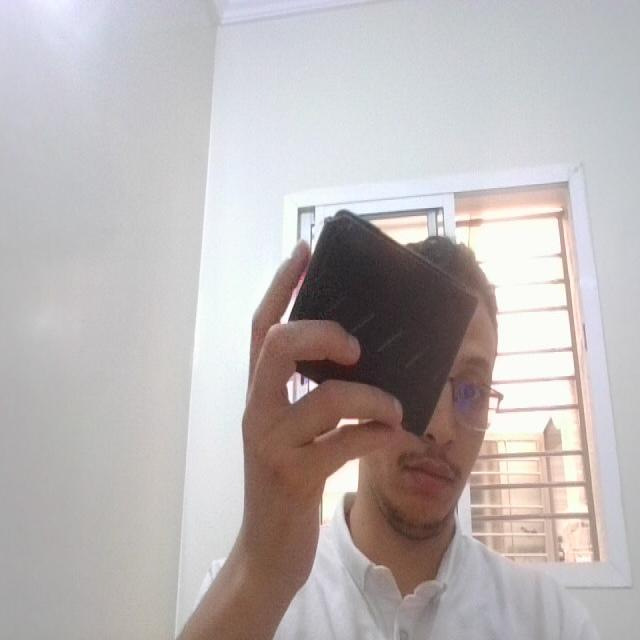wallet: (294, 200, 480, 448)
